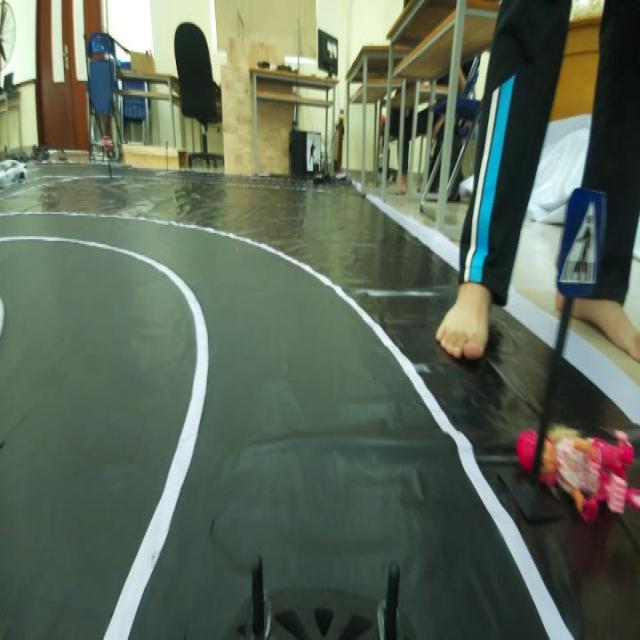crosswalk: (549, 184, 614, 298)
